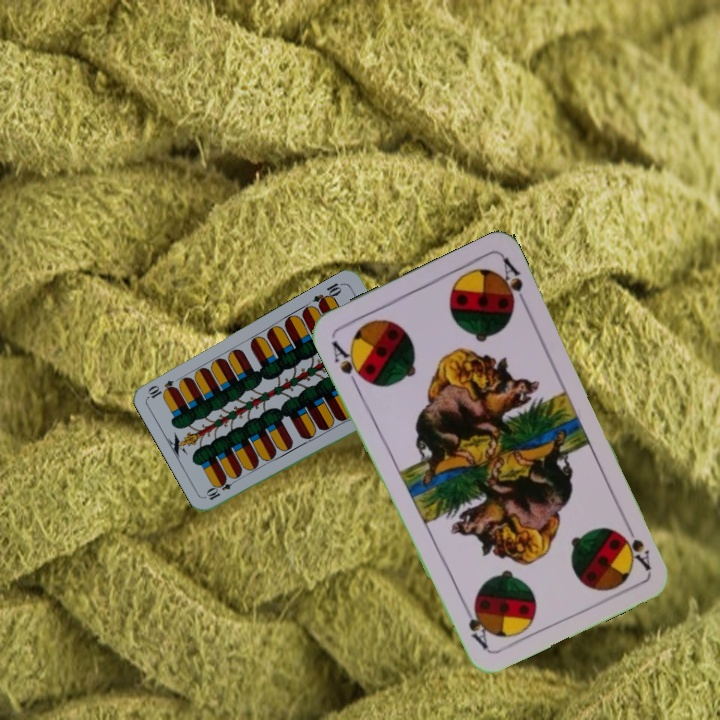E10: (309, 279, 346, 310), (202, 474, 240, 503)
SA: (328, 336, 369, 390), (616, 517, 654, 573)
